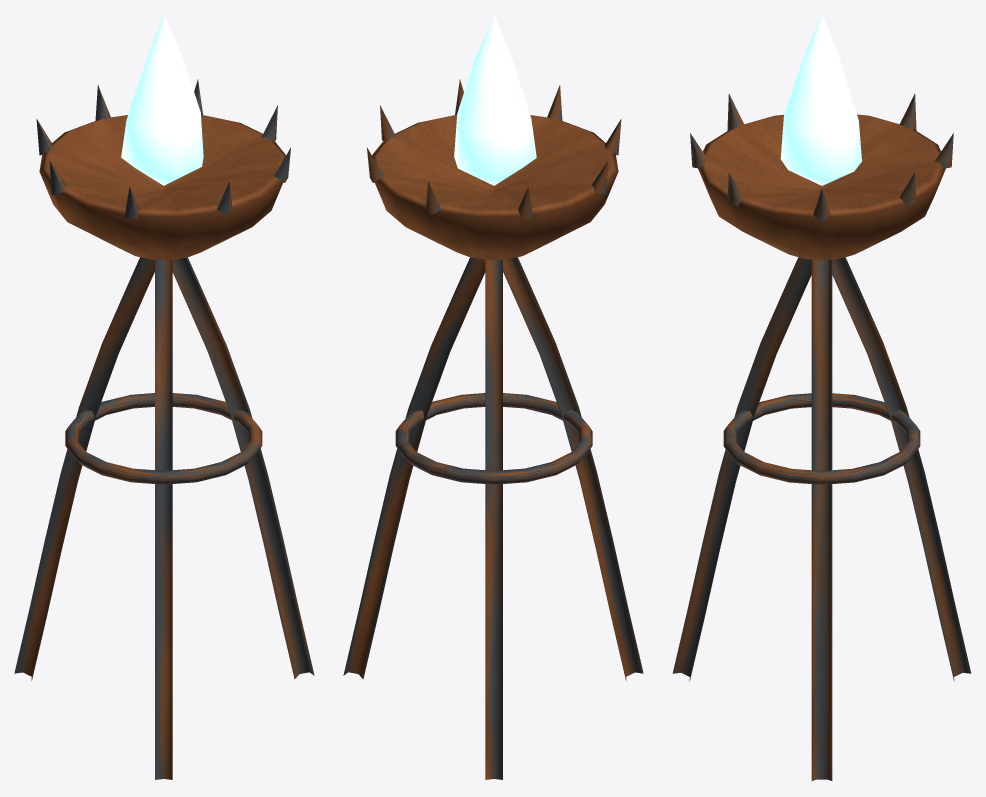
File: blue_wisp_torch.glb
3 renders of one model, left to right at view 1: azimuth 30°, elevation 25°; view 2: azimuth 150°, elevation 25°; view 3: azimuth 270°, elevation 25°, orthographic.
Parts seen in each view (by area): view 1: blue_wisp_torch__iron, blue_wisp_torch__iron_rusty, blue_wisp_torch__glow_core; view 2: blue_wisp_torch__iron, blue_wisp_torch__iron_rusty, blue_wisp_torch__glow_core; view 3: blue_wisp_torch__iron, blue_wisp_torch__iron_rusty, blue_wisp_torch__glow_core.
Part boxes in pixels (bbox=[...]): blue_wisp_torch__iron: bbox=[14, 79, 314, 779]; blue_wisp_torch__iron_rusty: bbox=[39, 114, 285, 259]; blue_wisp_torch__glow_core: bbox=[121, 14, 203, 185]; blue_wisp_torch__iron: bbox=[343, 79, 643, 779]; blue_wisp_torch__iron_rusty: bbox=[372, 114, 618, 259]; blue_wisp_torch__glow_core: bbox=[454, 15, 536, 185]; blue_wisp_torch__iron: bbox=[672, 94, 971, 780]; blue_wisp_torch__iron_rusty: bbox=[698, 114, 945, 260]; blue_wisp_torch__glow_core: bbox=[780, 14, 861, 185].
Size of the model in its own units: 0.6523 by 1.66 by 0.644.
Materials: 3 (2 with a texture image).
